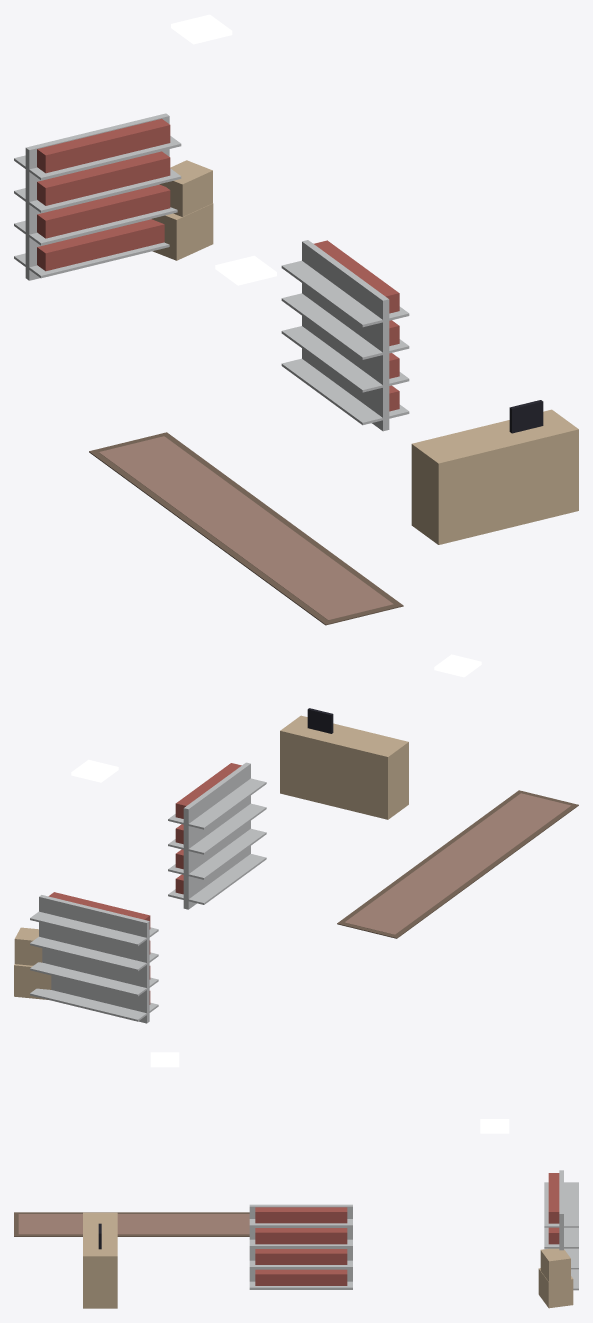
File: fine-s0.glb
The picture shows the model from 3 angles, top to bottom: view 1: azimuth 30°, elevation 25°; view 2: azimuth 150°, elevation 25°; view 3: azimuth 270°, elevation 25°; orthographic projection. The views are drawn at different scales.
Visible parts, largest first — view 1: shelving.000, soft-s0, shop-counter.000, shelf.000, cardboard-box.000, ceiling-lamp.000, ceiling-lamp.001; view 2: shelving.000, soft-s0, shop-counter.000, shelf.000, cardboard-box.000, ceiling-lamp.000, ceiling-lamp.001; view 3: shelf.000, soft-s0, shop-counter.000, shelving.000, cardboard-box.000, ceiling-lamp.000, ceiling-lamp.001.
Boxes of the visible parts, <box> form: shelving.000: <box>14,113,181,280</box>; soft-s0: <box>89,432,403,625</box>; shop-counter.000: <box>411,400,578,544</box>; shelf.000: <box>281,240,409,431</box>; cardboard-box.000: <box>152,160,213,260</box>; ceiling-lamp.000: <box>215,255,276,285</box>; ceiling-lamp.001: <box>171,14,232,44</box>; shelving.000: <box>30,892,158,1023</box>; soft-s0: <box>337,790,578,938</box>; shop-counter.000: <box>280,708,408,819</box>; shelf.000: <box>168,762,266,909</box>; cardboard-box.000: <box>14,927,51,999</box>; ceiling-lamp.000: <box>434,654,481,677</box>; ceiling-lamp.001: <box>71,759,118,782</box>; shelf.000: <box>249,1204,352,1289</box>; soft-s0: <box>14,1212,249,1236</box>; shop-counter.000: <box>83,1212,117,1308</box>; shelving.000: <box>544,1170,578,1290</box>; cardboard-box.000: <box>538,1248,573,1308</box>; ceiling-lamp.000: <box>150,1052,179,1067</box>; ceiling-lamp.001: <box>480,1119,509,1133</box>.
Size of the model in its own units: 3.94 by 3.19 by 9.83.
